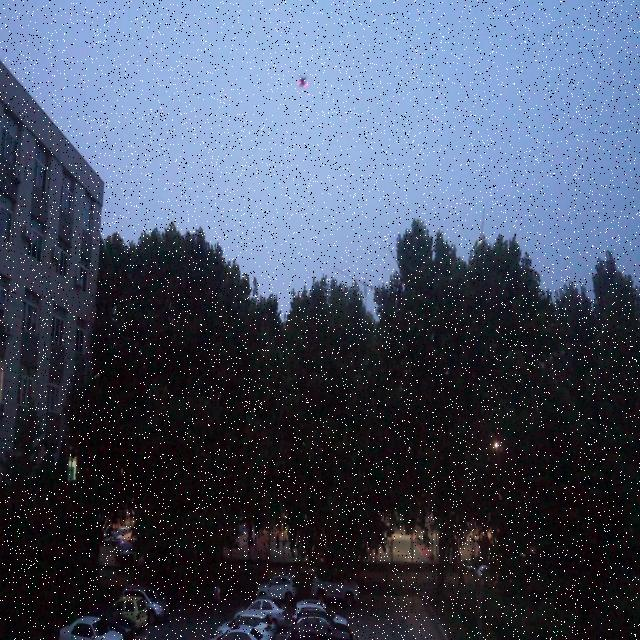UAV: (297, 77, 308, 88)
